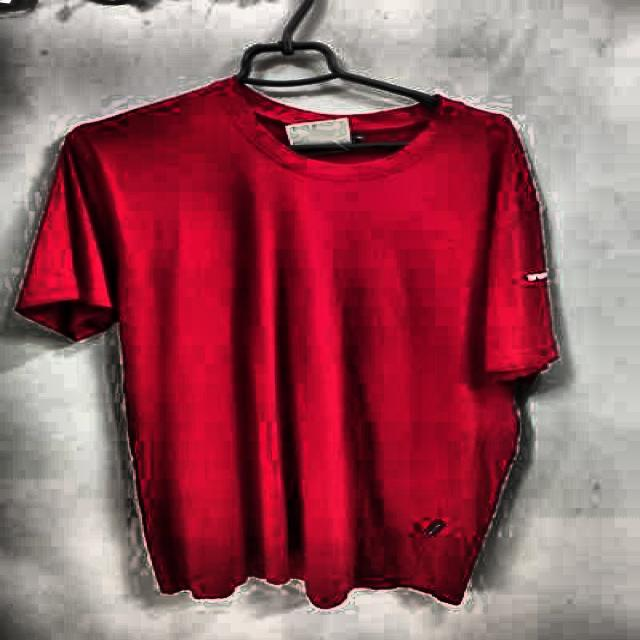clothes: (24, 76, 560, 614)
